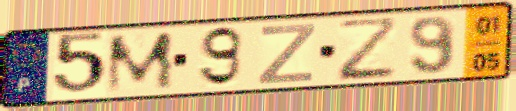5: (51, 30, 110, 100)
9: (194, 25, 245, 90), (406, 14, 457, 77)
M: (104, 29, 177, 96)
Z: (335, 14, 400, 84), (255, 21, 319, 86)
